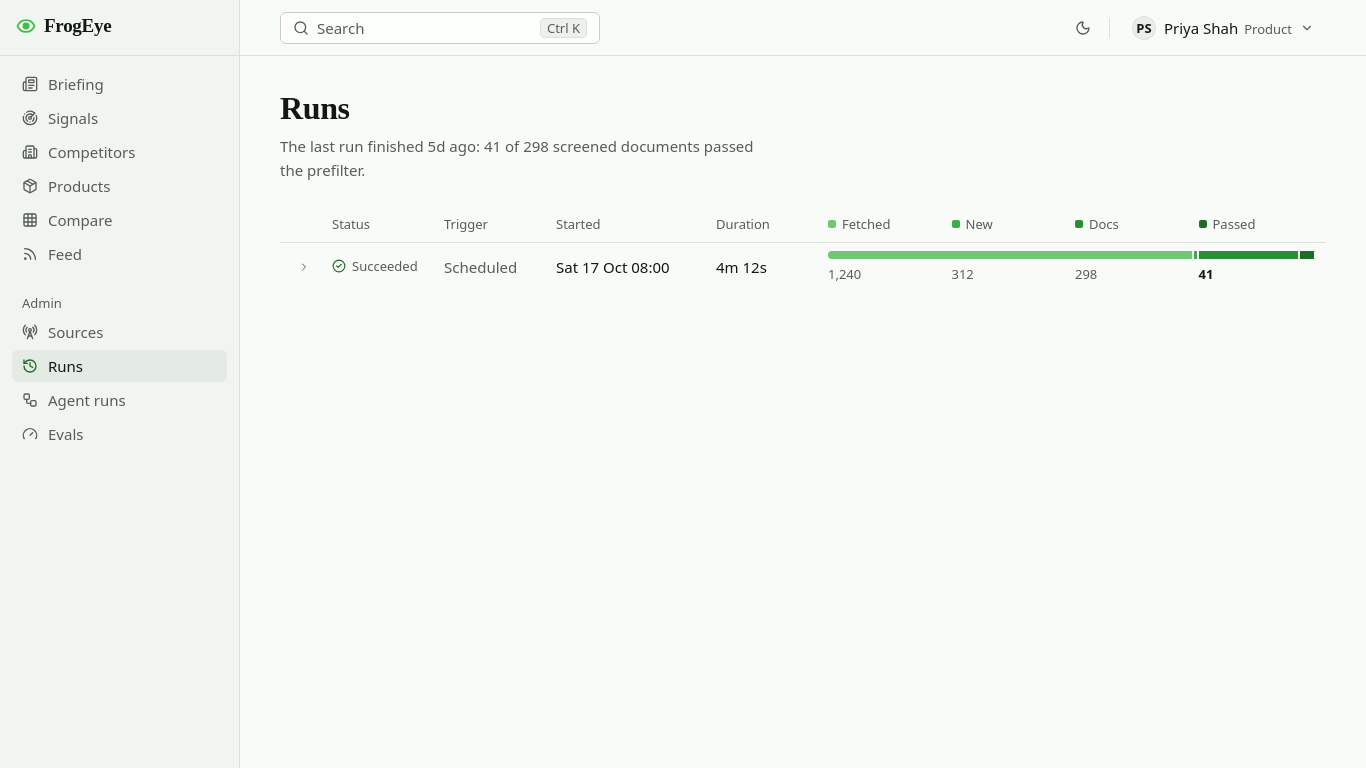
Test: shows an ingest-only run's postings, and no intelligence counts it never makes
The width and height of the screenshot is (1366, 768).
Click the button named "details for run 5".
click(304, 266)  # box [292,254,316,278]
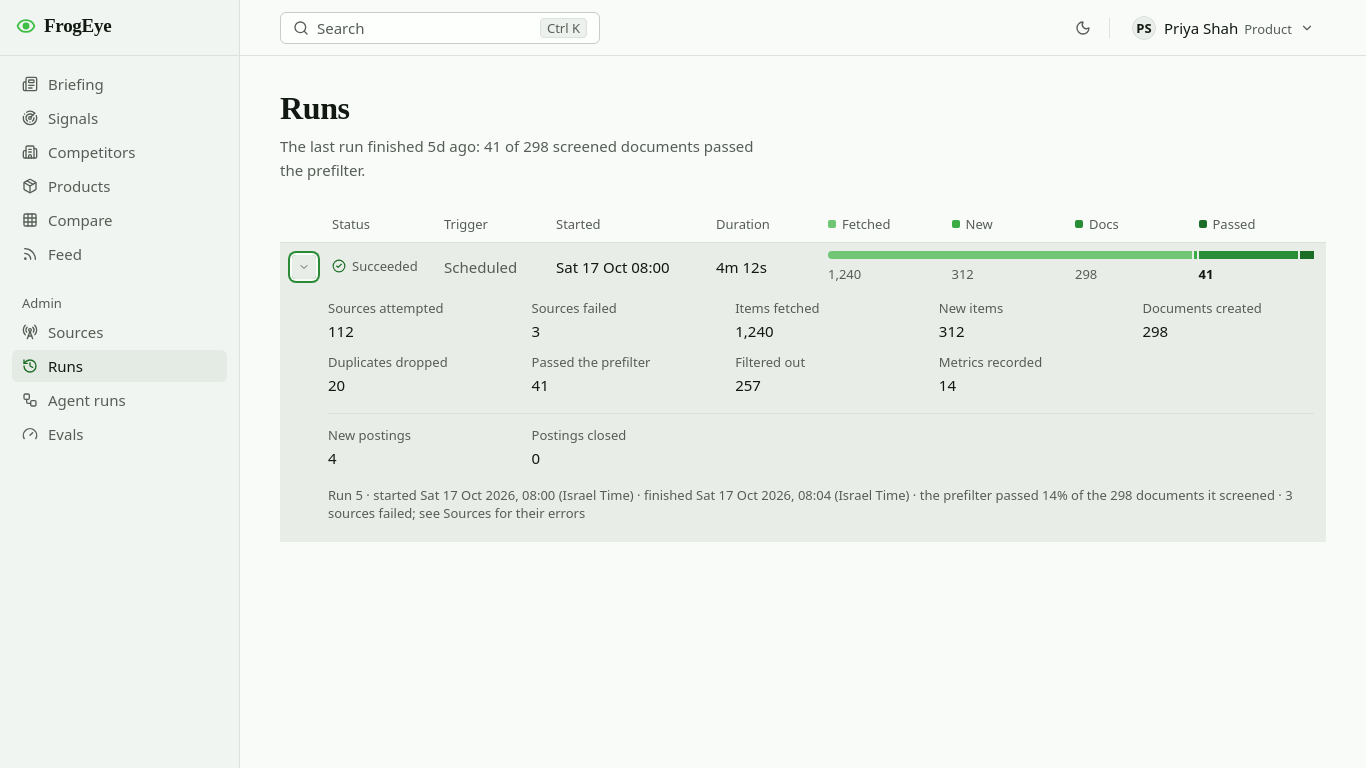
Check: the element showing "4" is shown, box [328,448,337,468]
Check: the element showing "0" is shown, box [532,448,540,468]
